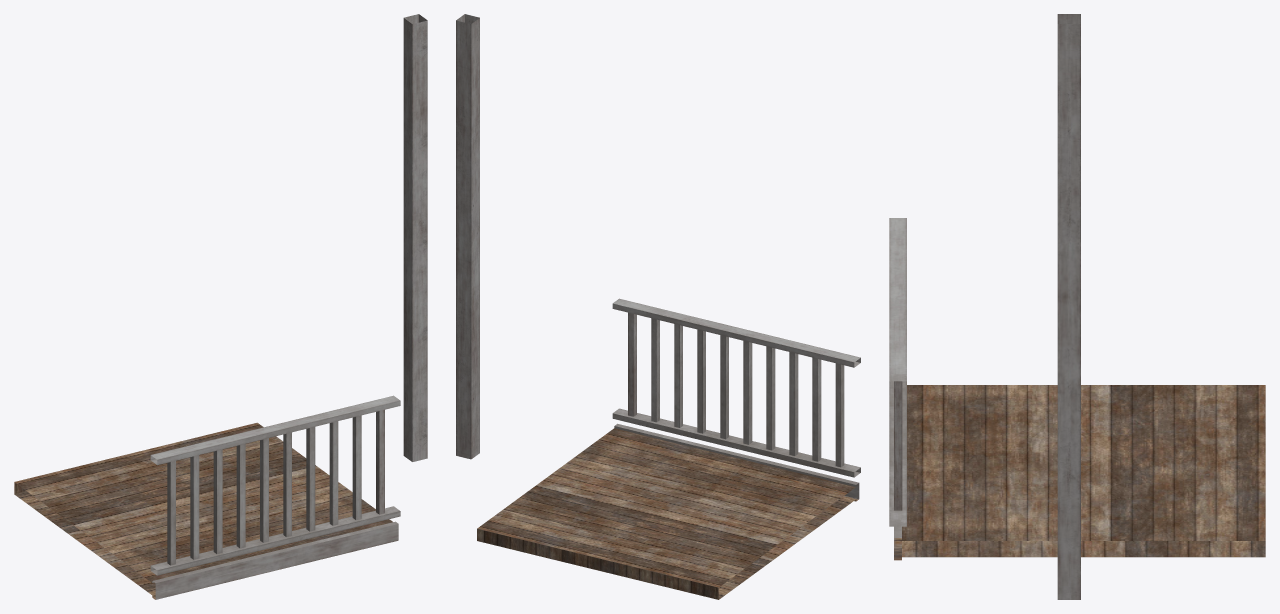
The model's file is Stairway_Pillar.fbx.
The picture shows the model from 3 angles, left to right: view 1: azimuth 30°, elevation 25°; view 2: azimuth 150°, elevation 25°; view 3: azimuth 270°, elevation 25°; orthographic projection. The views are drawn at different scales.
Visible parts, largest first — view 1: Stairway_1, Railing, Pillar_Smaller; view 2: Stairway_1, Railing, Pillar_Smaller; view 3: Stairway_1, Pillar_Smaller, Railing.
Part boxes in pixels (x1,y1,x2,y2): Stairway_1: (14, 422, 398, 599); Railing: (150, 395, 400, 575); Pillar_Smaller: (403, 14, 427, 461); Stairway_1: (477, 423, 859, 599); Railing: (612, 298, 860, 477); Pillar_Smaller: (456, 14, 479, 459); Stairway_1: (894, 385, 1265, 560); Pillar_Smaller: (1057, 14, 1080, 599); Railing: (889, 218, 906, 526).
Size of the model in its own units: 2.75 by 3.55 by 2.04.
